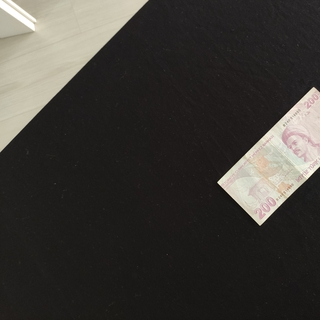200TLBack: (216, 87, 320, 225)
